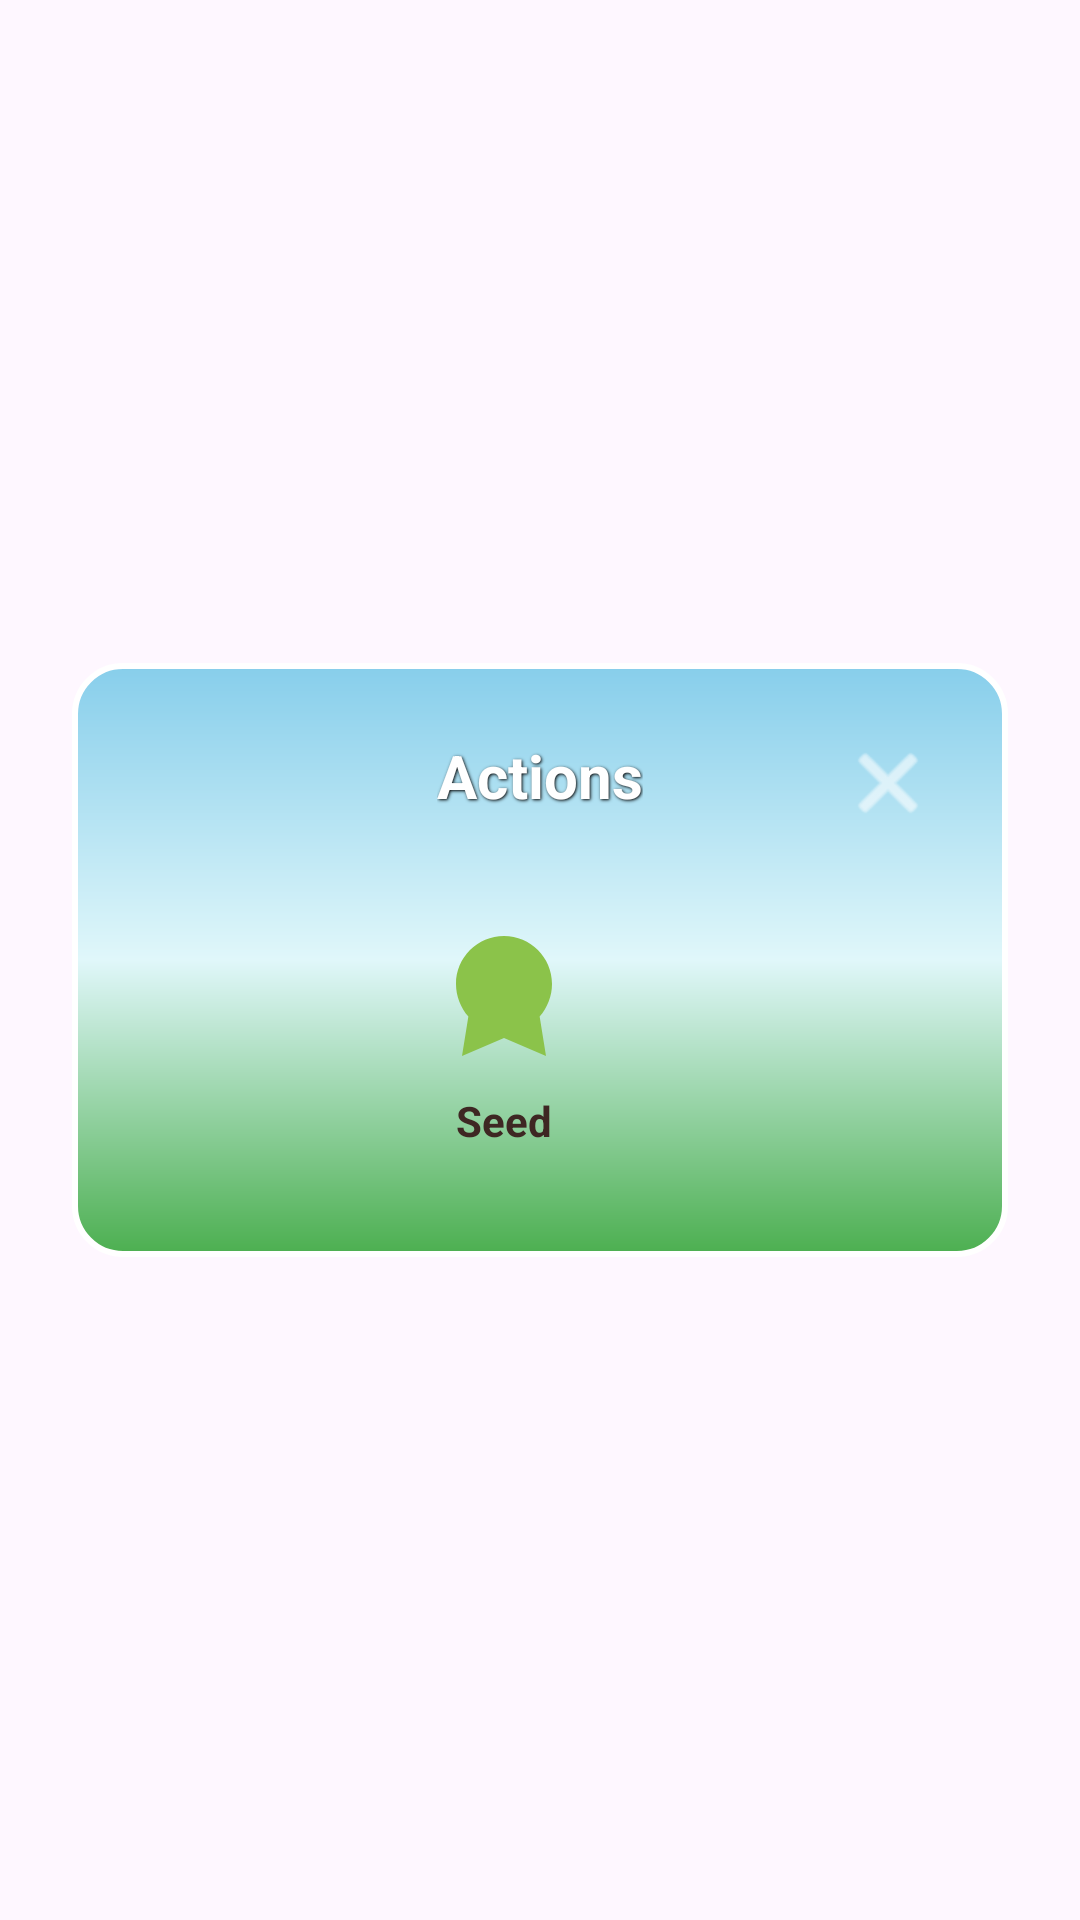

Screen size 1080px×1920px. Icon name, then its box in pixels as (left=x1, top=y1, right=x2, bottom=y2):
close clear cancel: (left=840, top=735, right=936, bottom=813)
